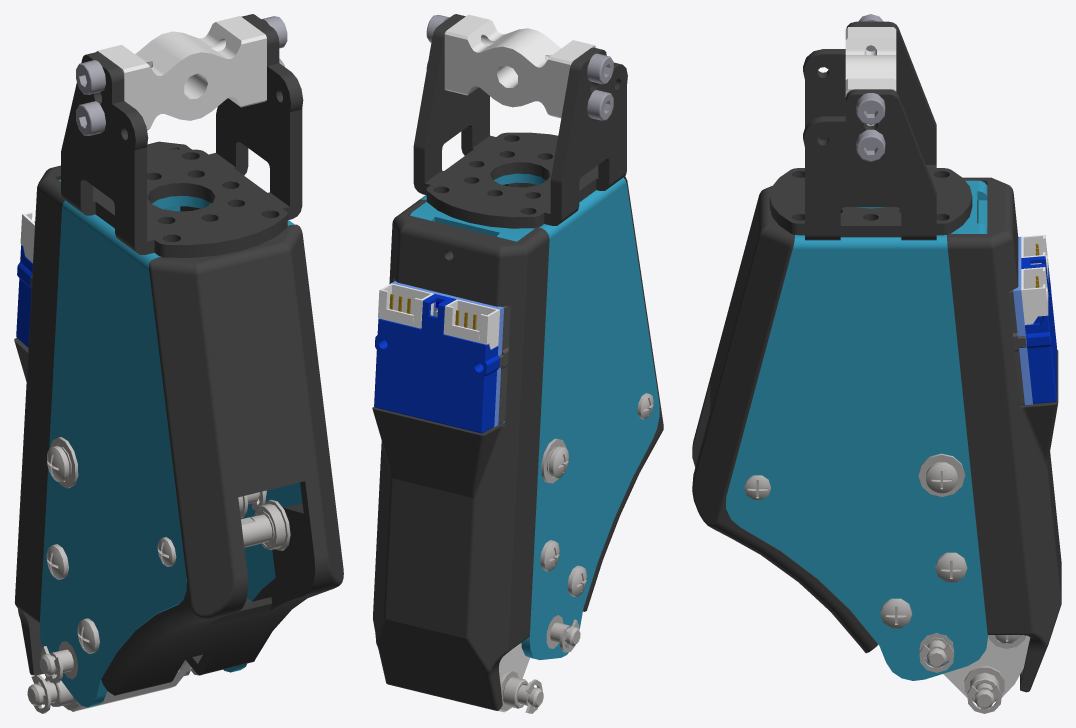
The model's file is LARM_LINK7_mesh.dae.
3 views of the same model, side by side, from view 1: azimuth 30°, elevation 25°; view 2: azimuth 150°, elevation 25°; view 3: azimuth 270°, elevation 25° (orthographic). The views are drawn at different scales.
Visible parts, largest first — view 1: サーフェス1, サーフェス1_ncl1_1; view 2: サーフェス1, サーフェス1_ncl1_1; view 3: サーフェス1, サーフェス1_ncl1_3.
Part boxes in pixels (<box>): サーフェス1: <box>14,14,343,713</box>; サーフェス1_ncl1_1: <box>47,446,69,481</box>; サーフェス1: <box>372,14,663,713</box>; サーフェス1_ncl1_1: <box>549,446,568,478</box>; サーフェス1: <box>692,14,1061,713</box>; サーフェス1_ncl1_3: <box>926,462,957,493</box>.
Size of the model in its own units: 0.041 by 0.073 by 0.1366.
